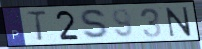2: (54, 9, 81, 42)
3: (139, 7, 162, 39)
9: (111, 8, 135, 39)
N: (165, 6, 193, 38)
S: (79, 8, 112, 41)
T: (24, 9, 49, 42)
